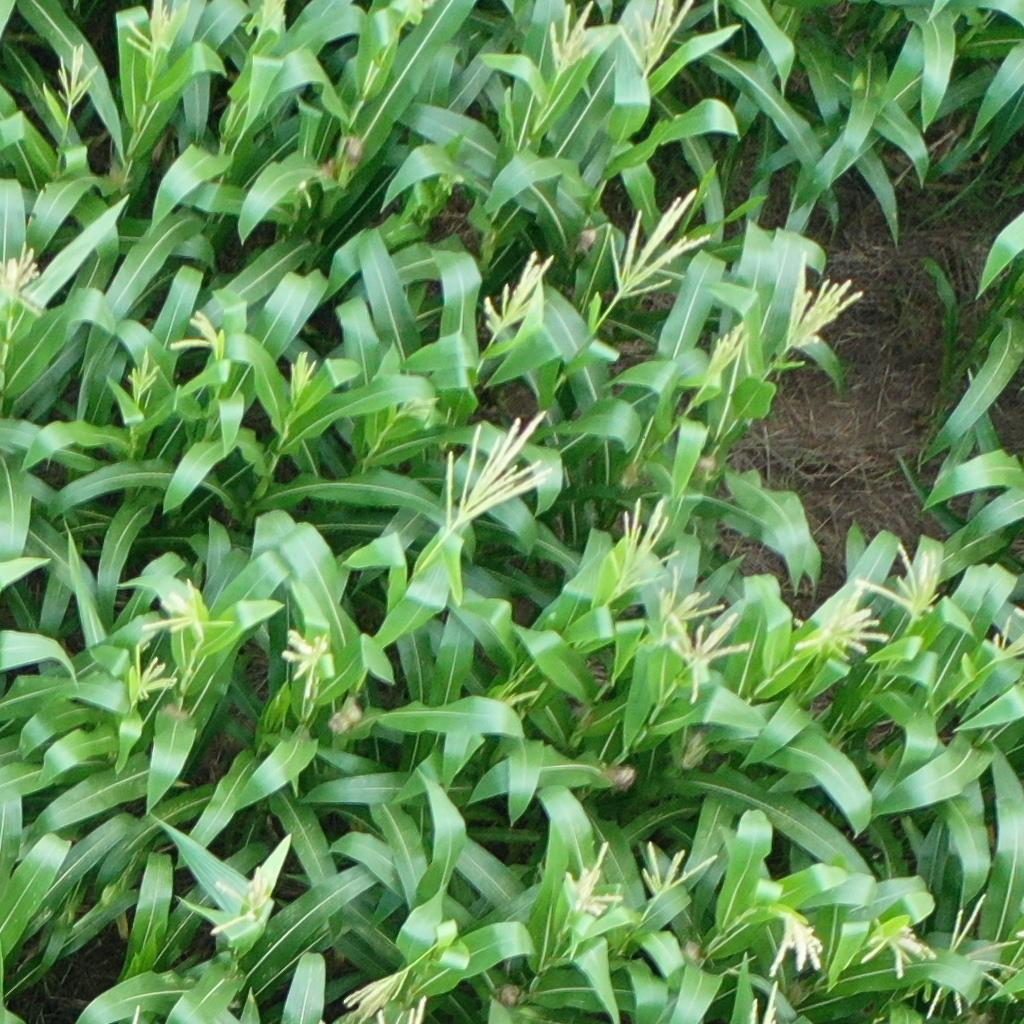Tassel: (431, 406, 558, 531), (593, 184, 713, 296), (923, 892, 1024, 1018), (782, 245, 870, 358), (470, 246, 554, 339), (607, 494, 679, 602), (674, 615, 758, 707), (857, 533, 947, 617), (792, 594, 892, 665), (648, 563, 725, 651), (618, 1, 697, 82), (139, 578, 233, 644), (559, 833, 623, 923), (858, 918, 941, 982), (206, 864, 274, 939), (765, 902, 834, 974), (538, 1, 612, 68), (341, 969, 431, 1024), (641, 838, 723, 896), (123, 1, 192, 68), (122, 643, 179, 714), (1, 245, 50, 326), (282, 629, 335, 699), (169, 310, 233, 366), (700, 317, 748, 387), (53, 42, 100, 109), (282, 346, 318, 415), (981, 613, 1024, 667), (246, 1, 294, 41), (124, 349, 165, 395), (748, 974, 785, 1024)
